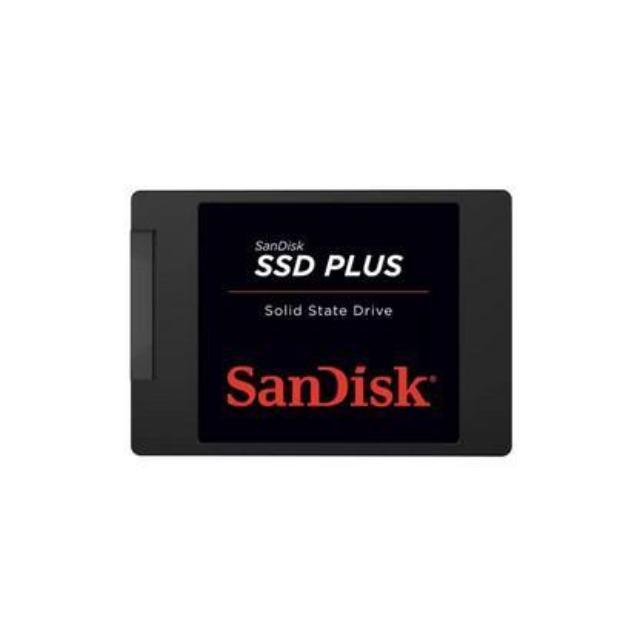DISK: (131, 182, 511, 458)
